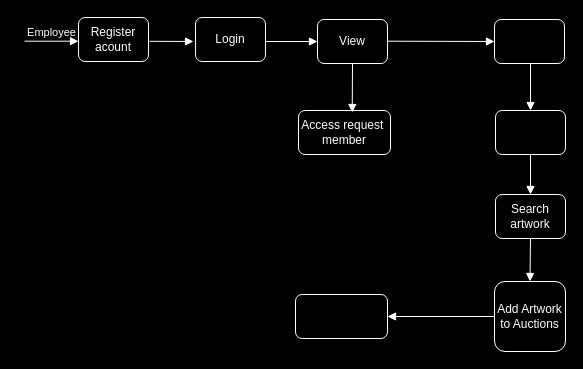
This 583x369 diagram has some shape labels left out. The shapes that lost their labels are listed below. From the top down, each one's centre as x and y in pixels, then its label:
At point 529,41: "Create artwork".
At point 530,132: "Following artwork".
At point 341,316: "auction".
